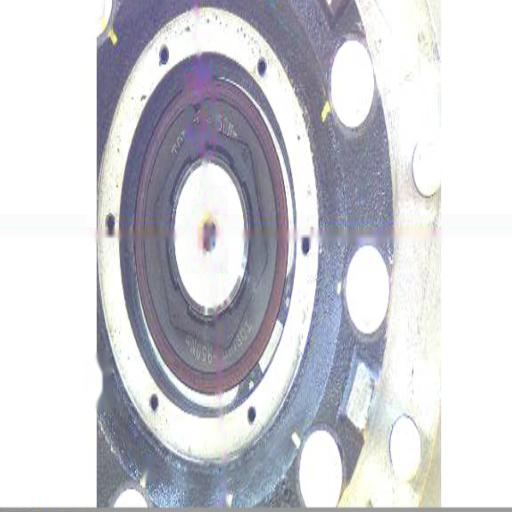center: (200, 220, 216, 264)
notch: (188, 91, 203, 130)
